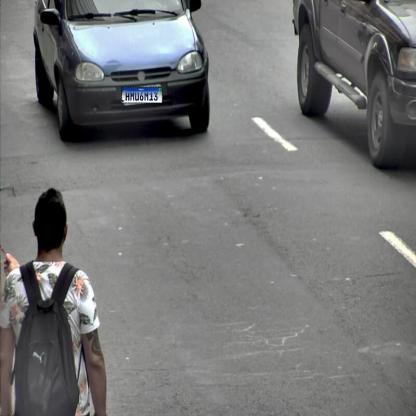PlacaM: (121, 87, 163, 103)
